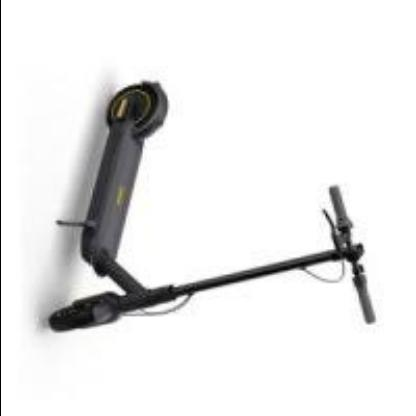bike: (47, 80, 379, 334)
